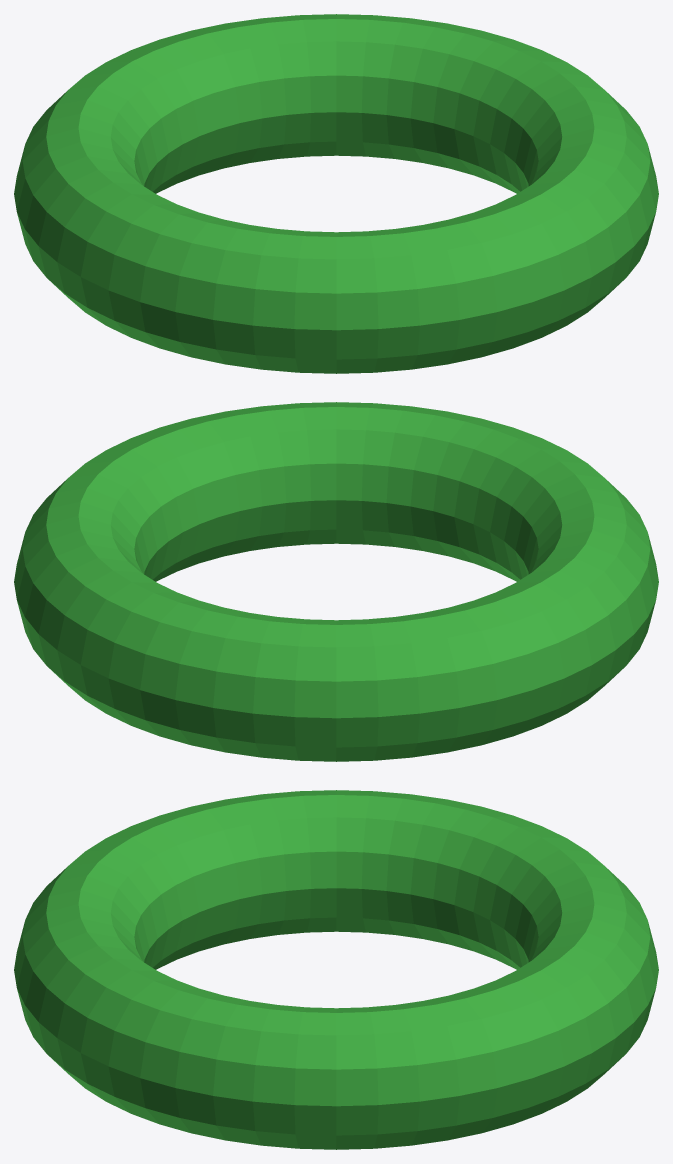
The model's file is ring 3.fbx.
The picture shows the model from 3 angles, top to bottom: view 1: azimuth 30°, elevation 25°; view 2: azimuth 150°, elevation 25°; view 3: azimuth 270°, elevation 25°; orthographic projection.
Parts seen in each view (by area): view 1: ring 3; view 2: ring 3; view 3: ring 3.
Part boxes in pixels (x1,y1,x2,y2): ring 3: [14, 14, 658, 373]; ring 3: [14, 402, 658, 761]; ring 3: [14, 790, 658, 1149].
Bounding box in the file's own units: 93.05 × 21.02 × 93.05.
